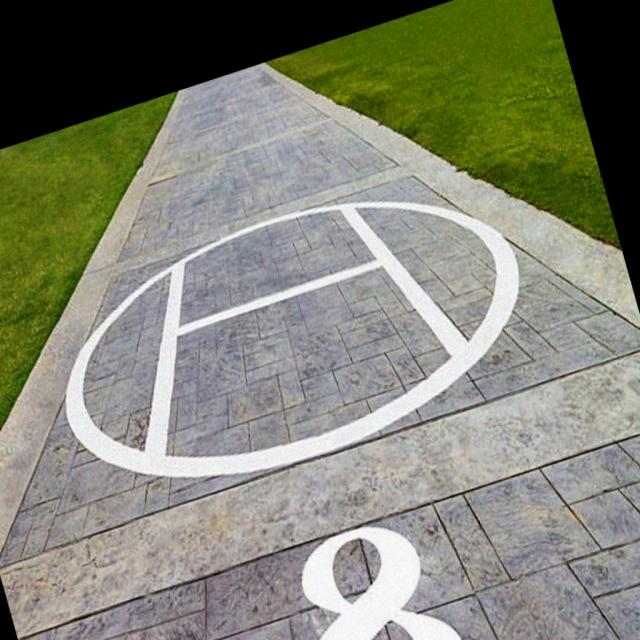helipad: (61, 195, 527, 487)
